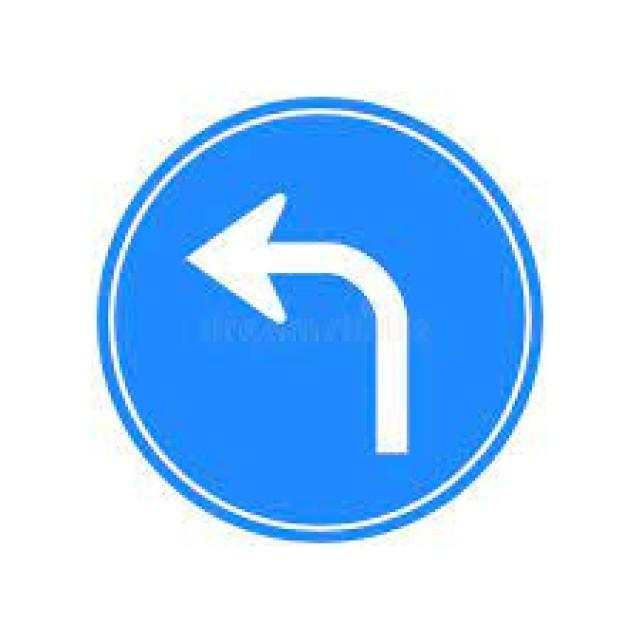compulsary turn left ahead: (93, 93, 546, 546)
